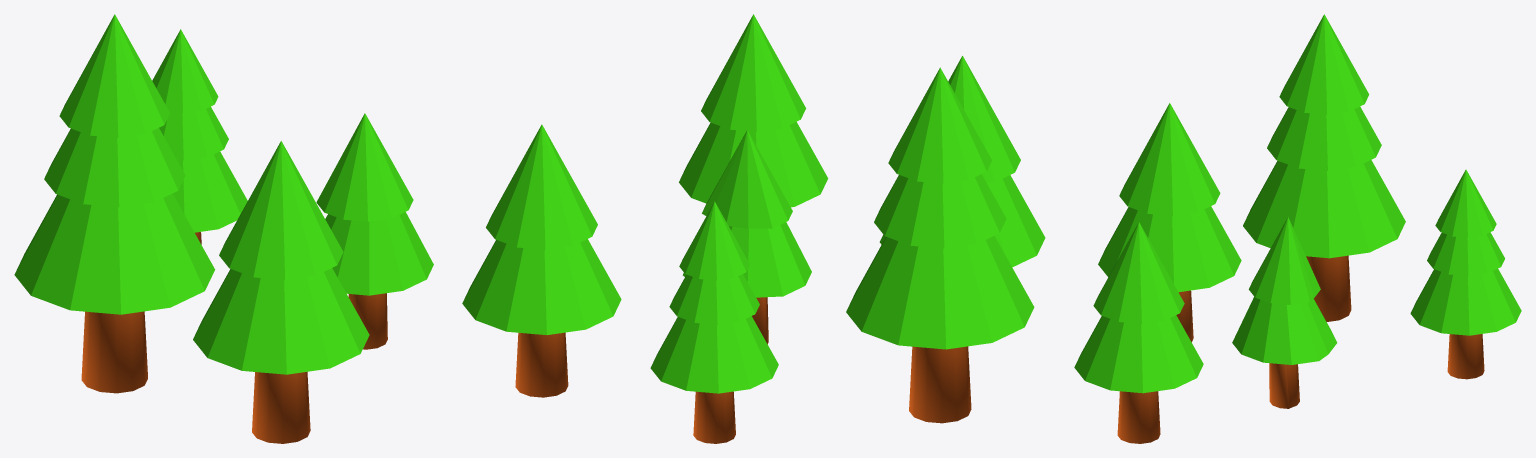
The model's file is Trees03.fbx.
3 renders of one model, left to right at view 1: azimuth 30°, elevation 25°; view 2: azimuth 150°, elevation 25°; view 3: azimuth 270°, elevation 25°, orthographic. The views are drawn at different scales.
Visible parts, largest first — view 1: TreeL, TreeS.001, TreeS, TreeS.002, TreeL.001; view 2: TreeL, TreeL.001, TreeS, TreeS.002, TreeS.001; view 3: TreeL, TreeS, TreeS.001, TreeL.001, TreeS.002.
Part boxes in pixels (x1,y1,x2,y2): TreeL: (14,14,215,393); TreeS.001: (193,141,369,443); TreeS: (462,124,621,397); TreeS.002: (316,113,433,349); TreeL.001: (152,29,247,244); TreeL: (846,67,1034,423); TreeL.001: (650,201,778,443); TreeS: (679,14,828,207); TreeS.002: (682,130,811,344); TreeS.001: (879,56,1045,267); TreeL: (1243,14,1405,321); TreeS: (1074,222,1203,443); TreeS.001: (1098,103,1241,342); TreeL.001: (1410,169,1521,379); TreeS.002: (1232,217,1337,408).
Bounding box in the file's own units: 1749 × 1302 × 1778.
